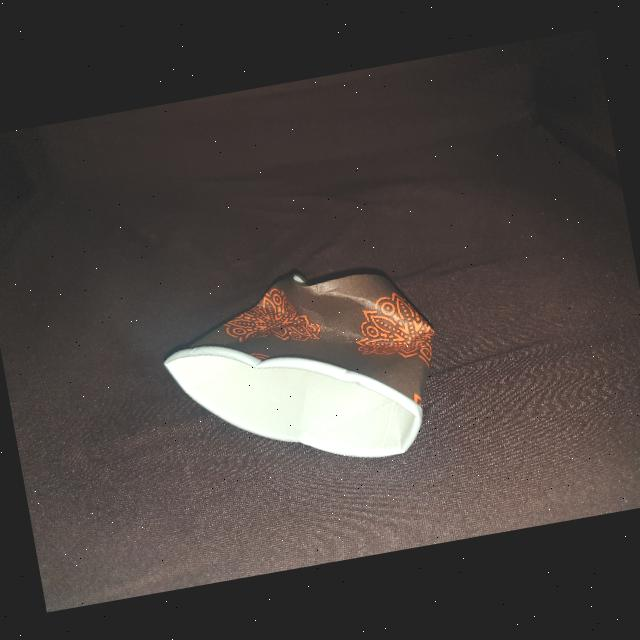trash: (149, 245, 460, 494)
